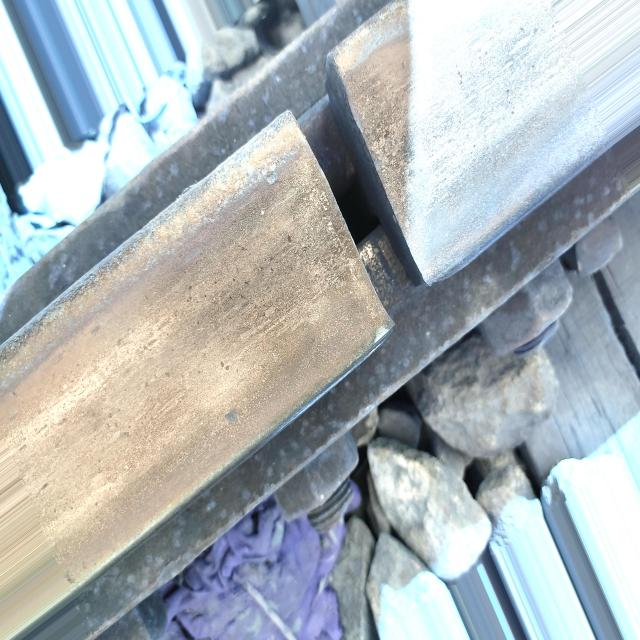crack: (275, 26, 439, 356)
